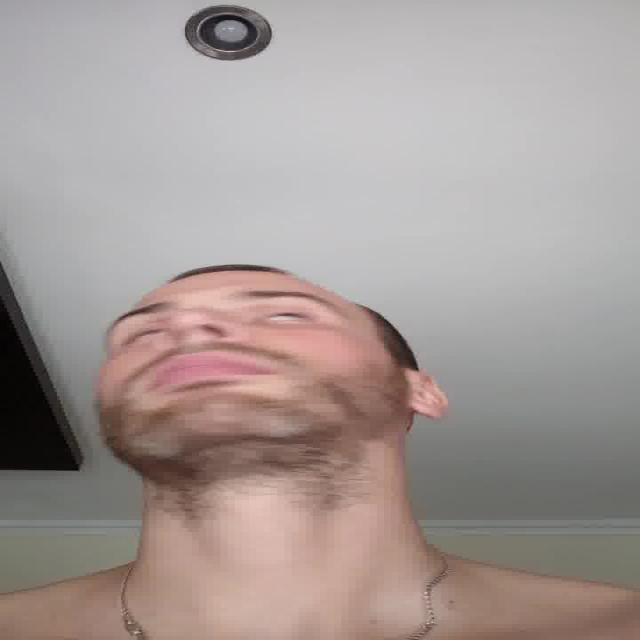earlobe: (409, 402, 444, 420)
eye: (256, 309, 316, 325), (118, 324, 160, 345)
nose: (165, 329, 251, 360)
wholeear: (408, 371, 448, 420)
